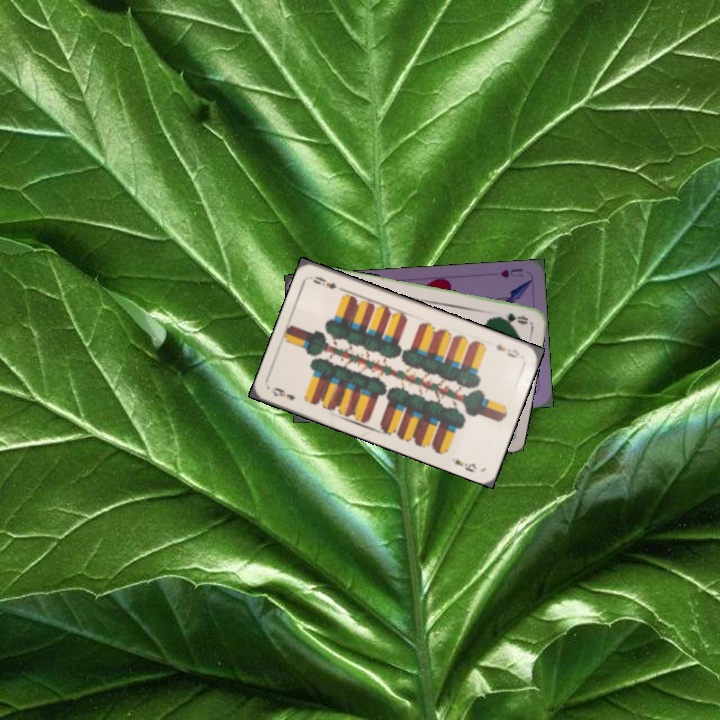E9: (492, 340, 522, 361), (267, 383, 297, 403)
GO: (490, 309, 531, 327)
HU: (496, 264, 525, 281)
